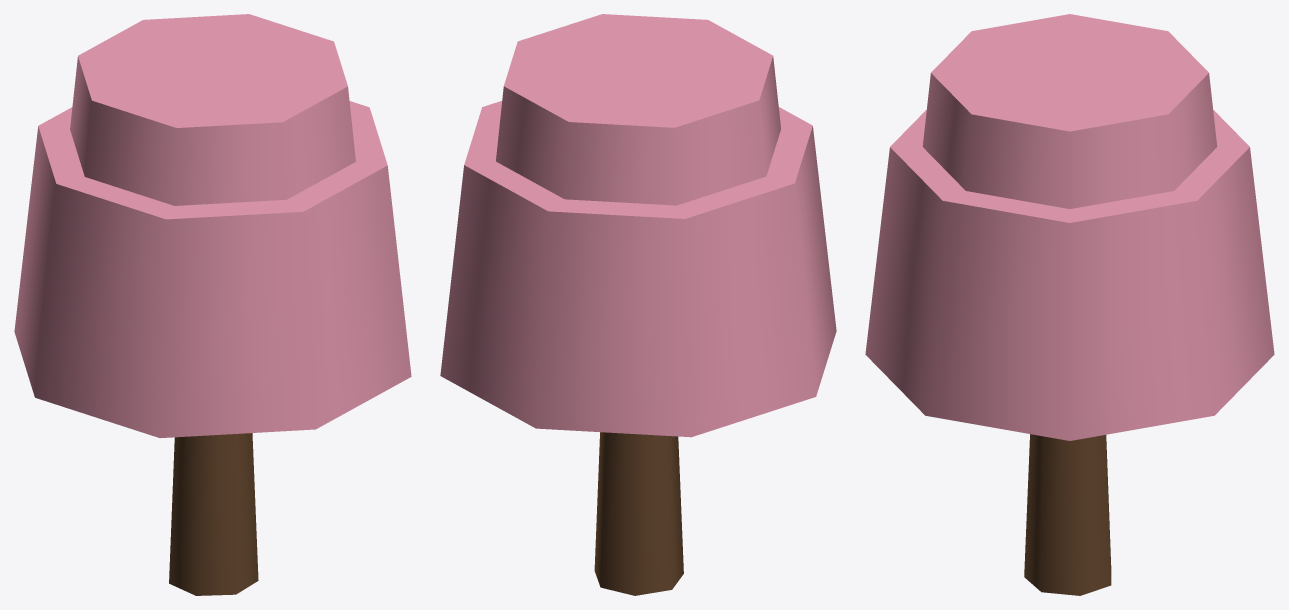
File: tree_cherry.glb
The picture shows the model from 3 angles, left to right: view 1: azimuth 30°, elevation 25°; view 2: azimuth 150°, elevation 25°; view 3: azimuth 270°, elevation 25°; orthographic projection.
Visible parts, largest first — view 1: tree_cherry; view 2: tree_cherry; view 3: tree_cherry.
Boxes of the visible parts, x1,y1,x2,y2 form: tree_cherry: (14,14,411,595); tree_cherry: (440,14,836,595); tree_cherry: (865,14,1274,595).
Bounding box in the file's own units: 2.5 × 3.4 × 2.5.
